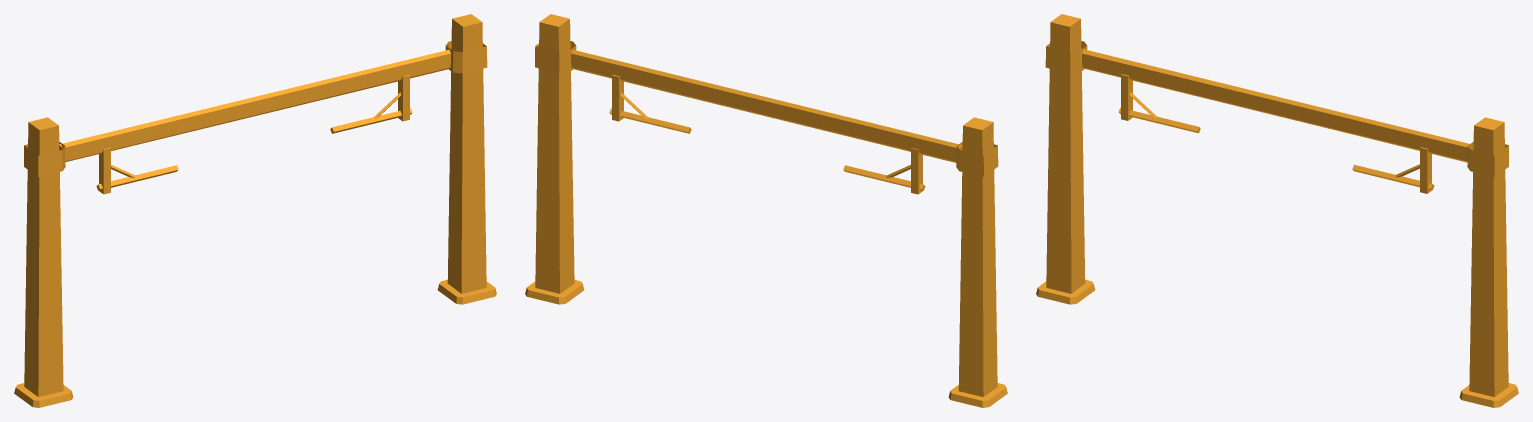
File: SM_Train_Wiring_Double_Pole_Collider.fbx
The picture shows the model from 3 angles, left to right: view 1: azimuth 30°, elevation 25°; view 2: azimuth 150°, elevation 25°; view 3: azimuth 330°, elevation 25°; orthographic projection.
Parts seen in each view (by area): view 1: SM_Train_Wiring_Double_Pole_Collider; view 2: SM_Train_Wiring_Double_Pole_Collider; view 3: SM_Train_Wiring_Double_Pole_Collider.
Boxes of the visible parts, x1,y1,x2,y2 form: SM_Train_Wiring_Double_Pole_Collider: [14, 14, 496, 407]; SM_Train_Wiring_Double_Pole_Collider: [525, 14, 1007, 407]; SM_Train_Wiring_Double_Pole_Collider: [1036, 14, 1518, 407].
Bounding box in the file's own units: 15.34 × 8.58 × 1.34.
